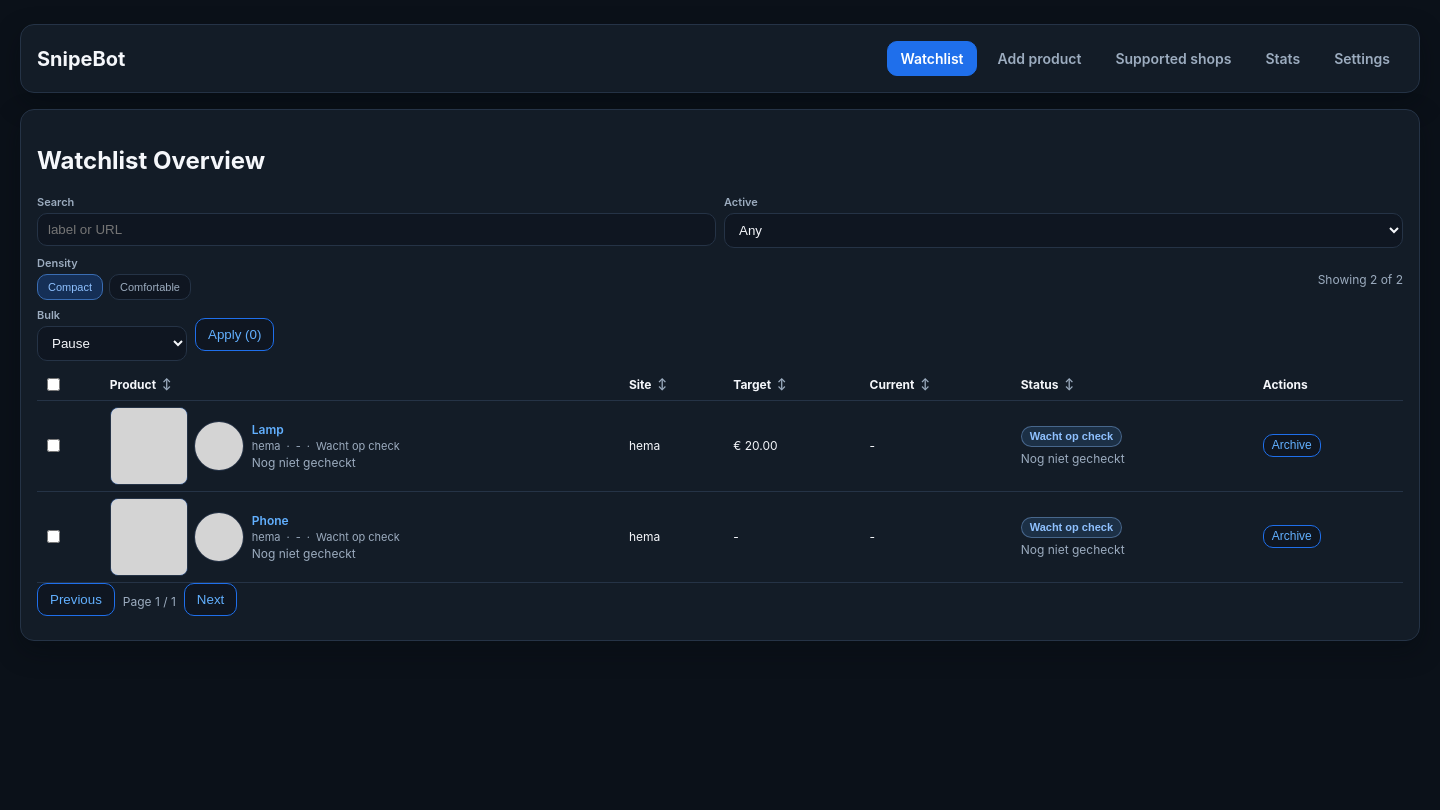
Test: App › applies bulk archive action from overview
This screenshot has width=1440, height=810.
Expected: the link "Lamp" is shown, [252,422,284,437]
Step 1. Click the checkbox named "Select item 1" → (54,446), box [47,439,60,452]
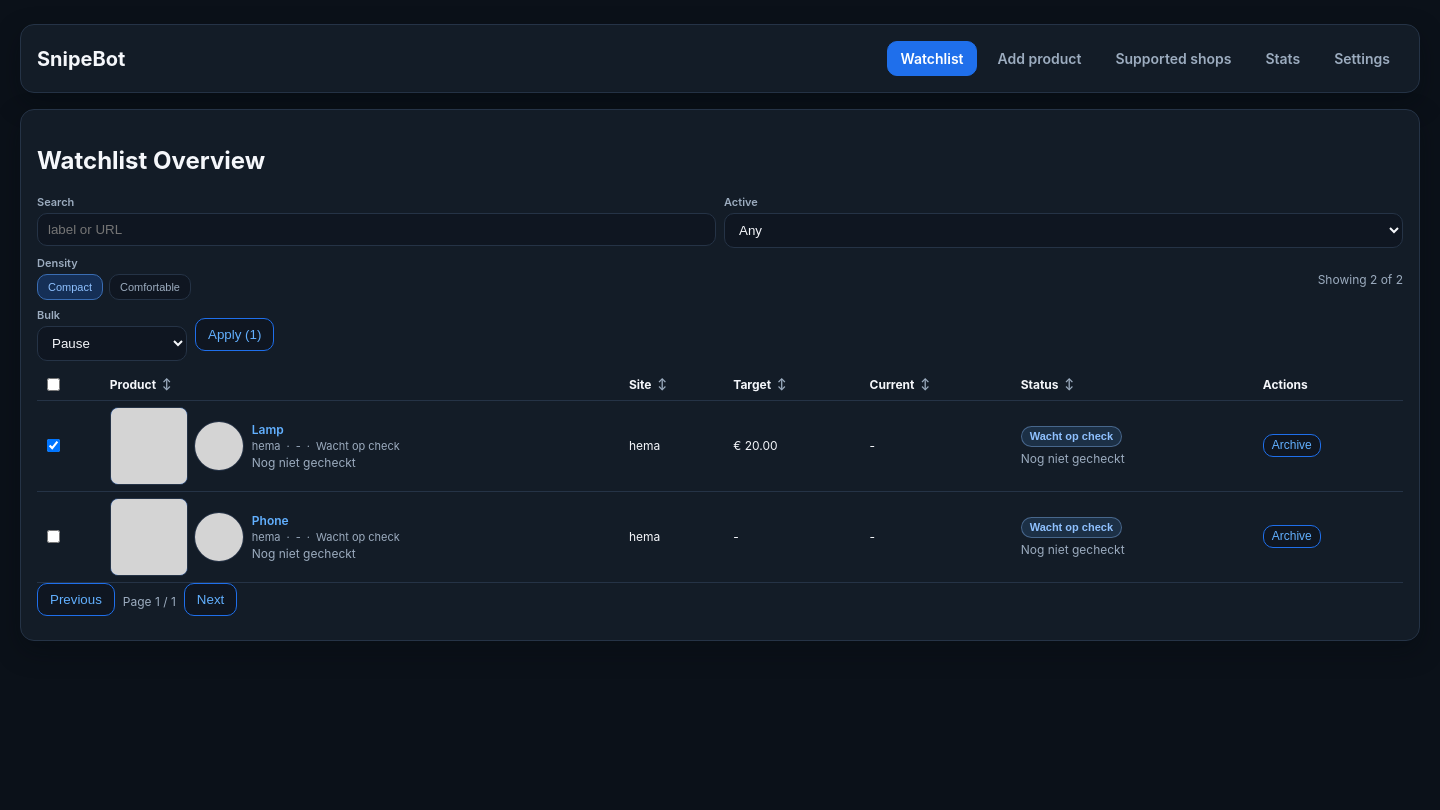
Step 2. Select "Archive" in the dropdown labelled "Bulk" → (112,343), box [37,326,187,361]
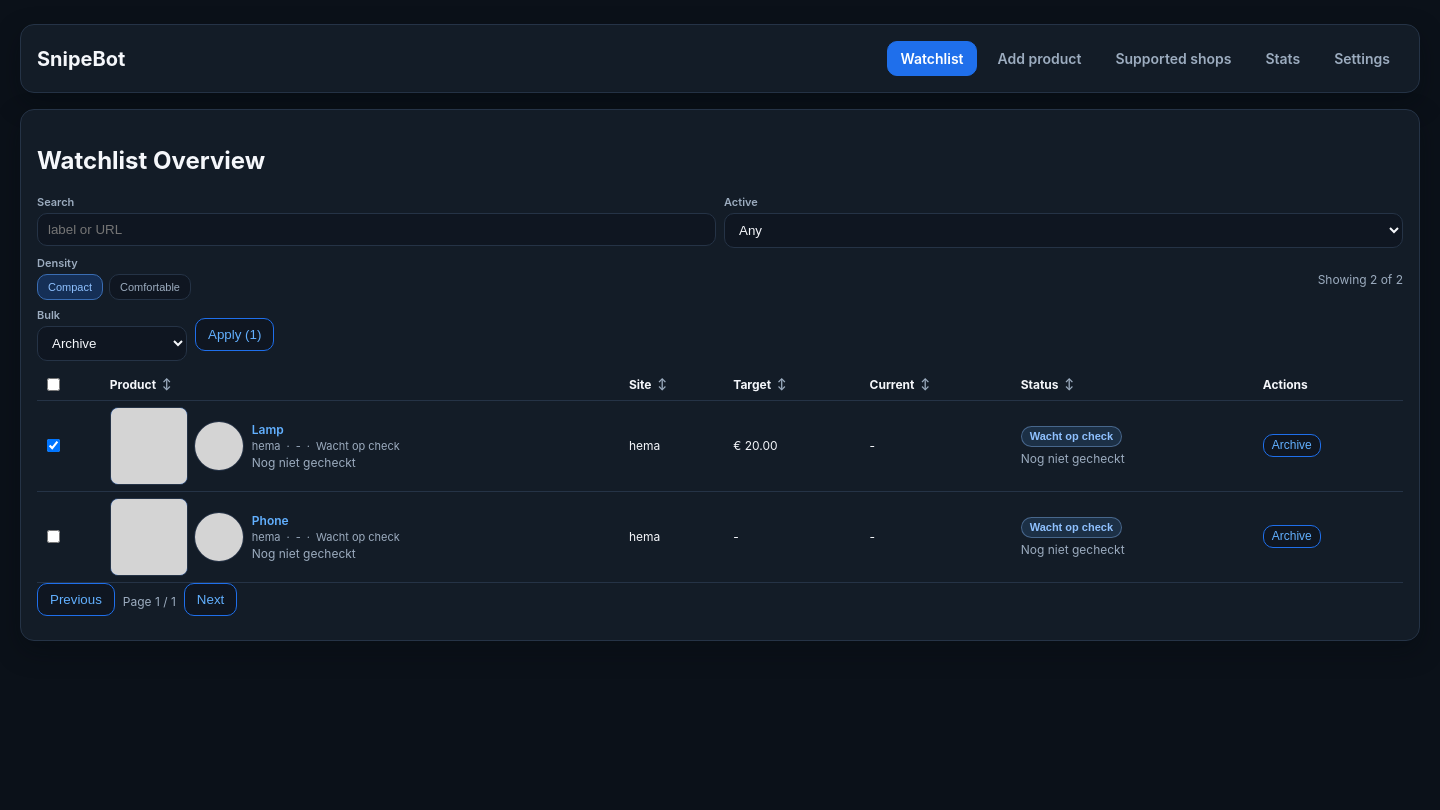
Step 3. Click the button "Apply (1)" → (235,334), box [195,318,274,351]
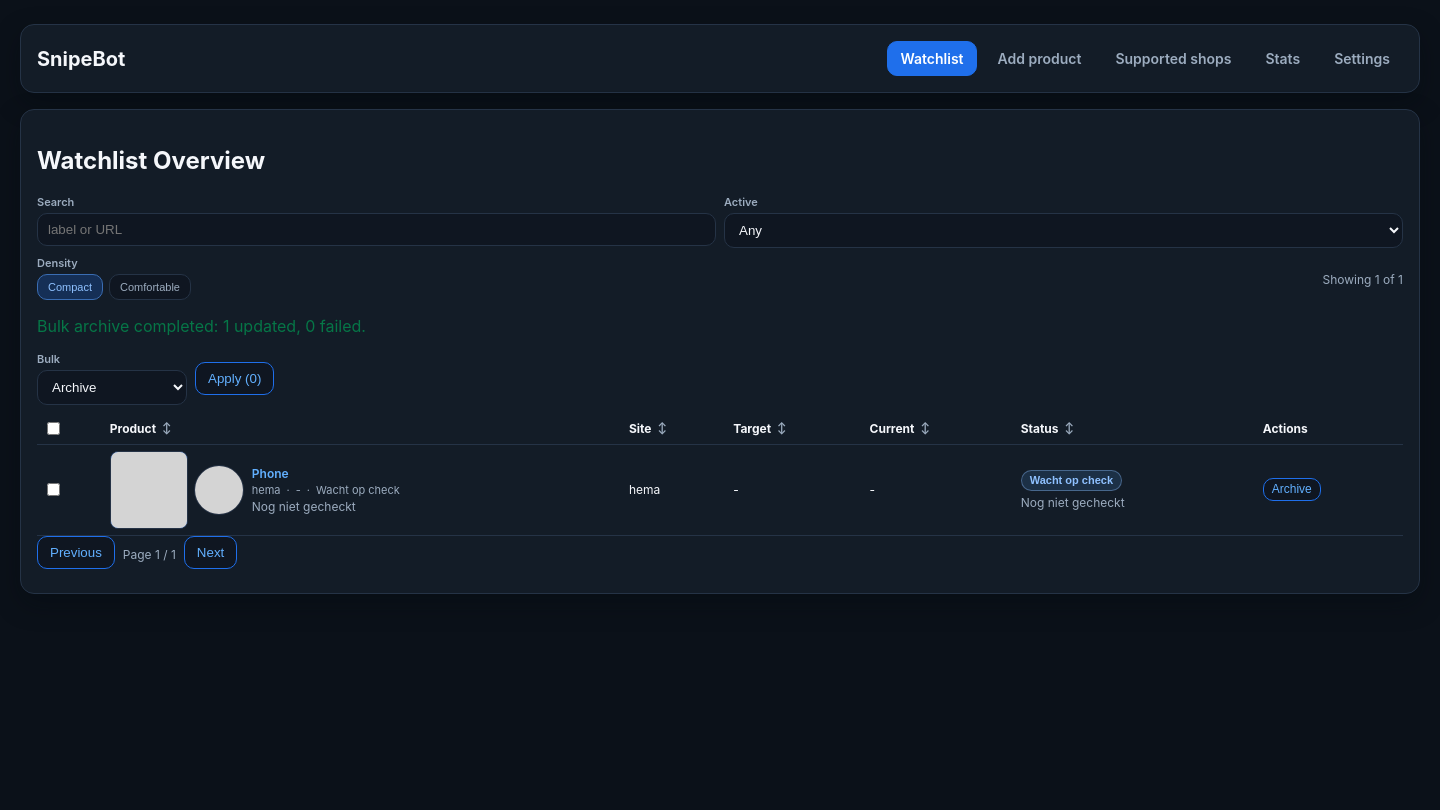
Expected: the link "Phone" is shown, [252,466,289,481]
Expected: the text "Bulk archive completed: 1 updated, 0 failed." is shown, [37,316,366,336]
Expected: the link "Lamp" is gone
